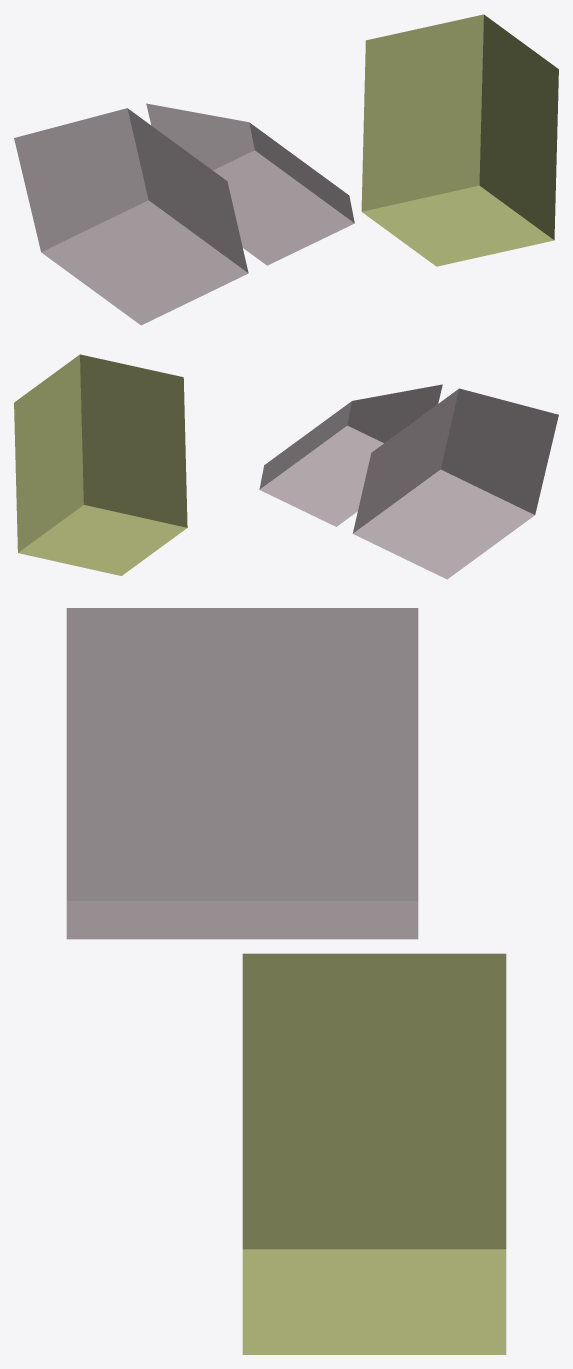
3 renders of one model, top to bottom at view 1: azimuth 30°, elevation 25°; view 2: azimuth 150°, elevation 25°; view 3: azimuth 270°, elevation 25°, orthographic. The views are drawn at different scales.
Visible parts, largest first — view 1: 0_2_2_0_0_0_0_1; view 2: 0_2_2_0_0_0_0_1; view 3: 0_2_2_0_0_0_0_1.
Part boxes in pixels (x1,y1,x2,y2): 0_2_2_0_0_0_0_1: (14, 14, 558, 325); 0_2_2_0_0_0_0_1: (14, 354, 558, 579); 0_2_2_0_0_0_0_1: (66, 608, 506, 1354).
Bounding box in the file's own units: 34.28 × 12.43 × 15.
